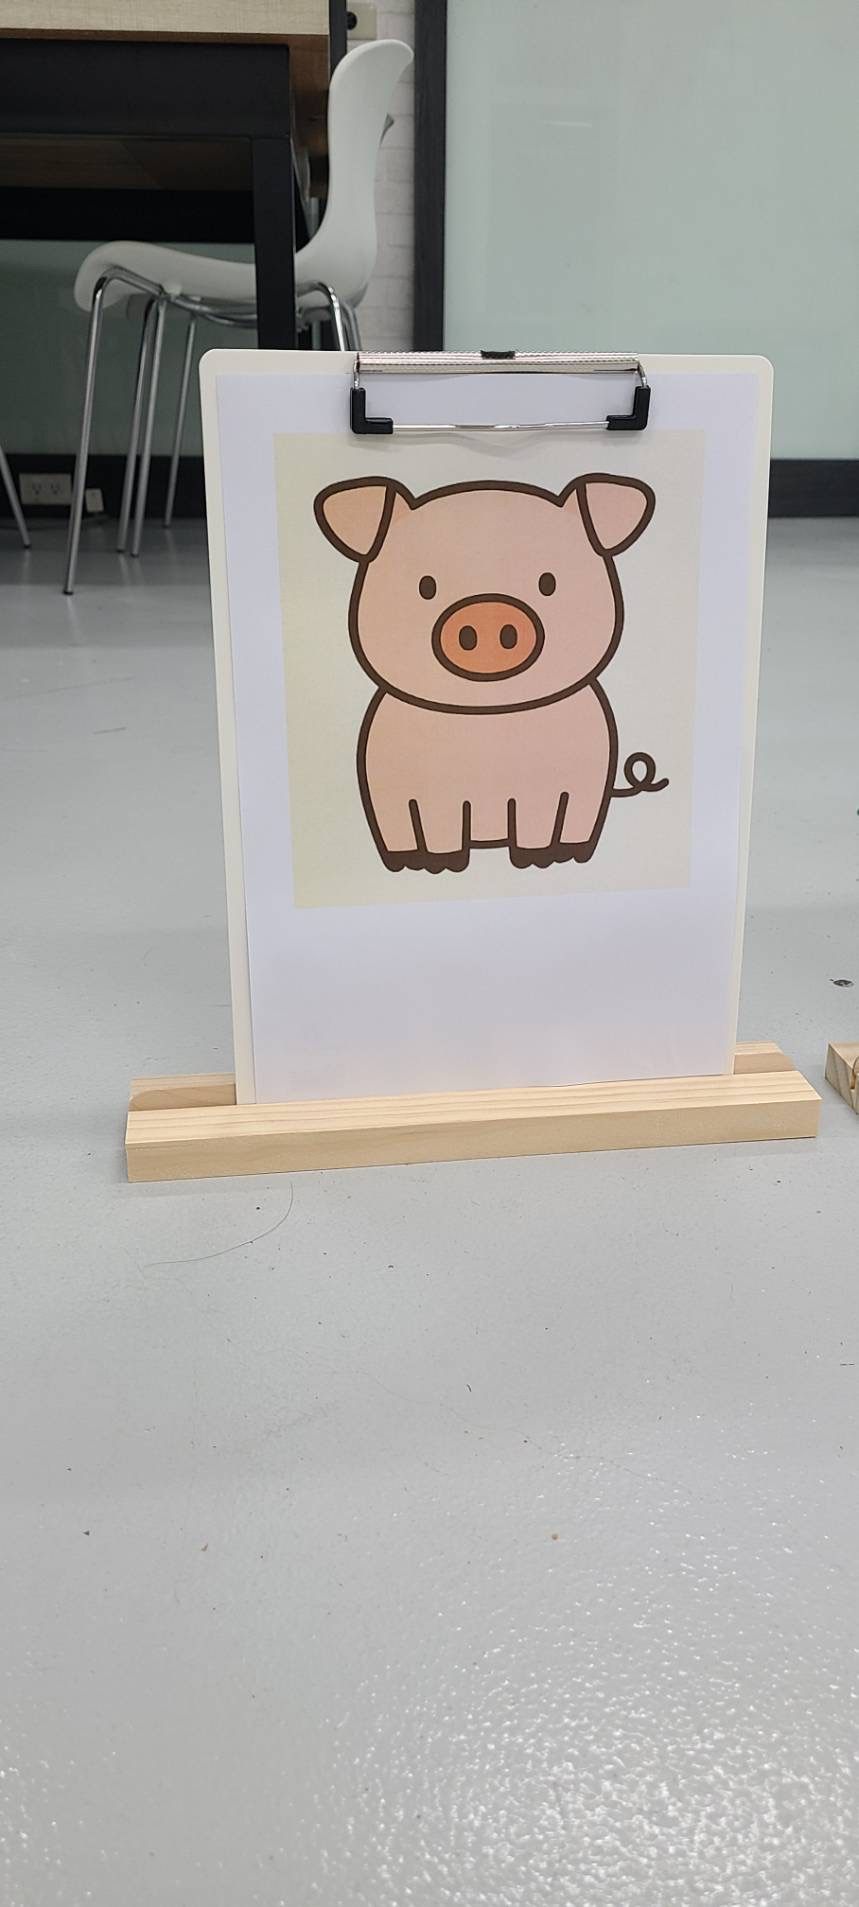pig: (315, 474, 666, 882)
